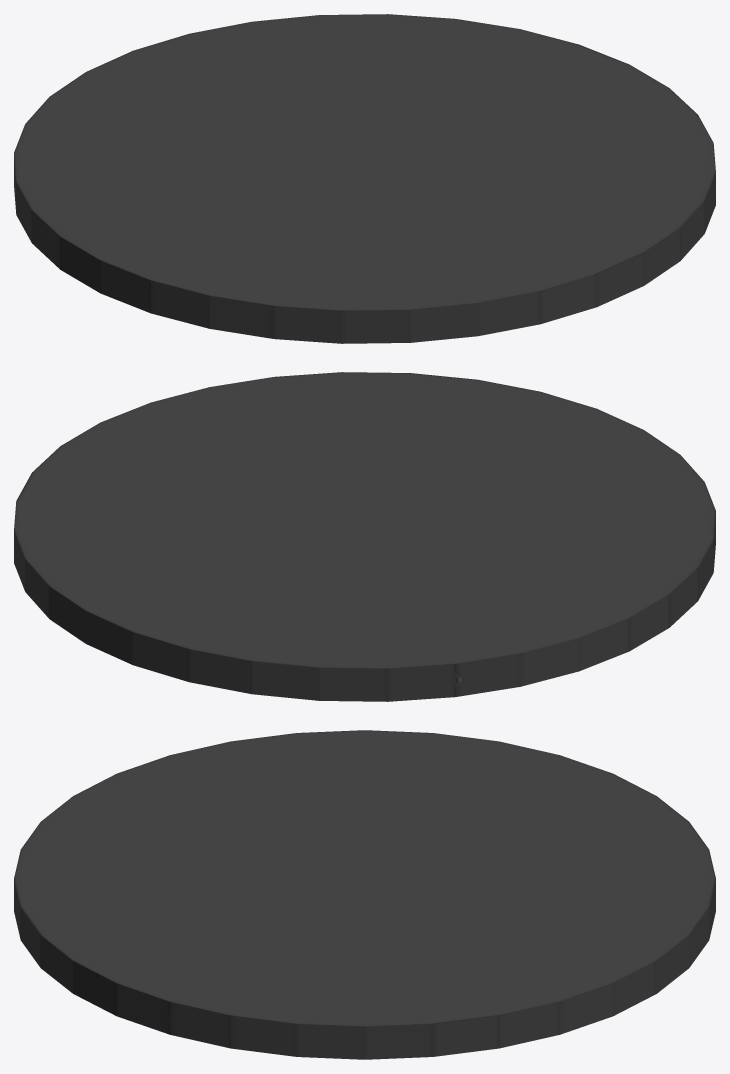
File: Basement_Cvr.fbx
3 renders of one model, top to bottom at view 1: azimuth 30°, elevation 25°; view 2: azimuth 150°, elevation 25°; view 3: azimuth 270°, elevation 25°, orthographic.
Parts seen in each view (by area): view 1: Cylinder; view 2: Cylinder; view 3: Cylinder.
Boxes of the visible parts, left/top/right/bottom form: Cylinder: left=14, top=14, right=715, bottom=343; Cylinder: left=14, top=372, right=715, bottom=701; Cylinder: left=14, top=730, right=715, bottom=1059.
Size of the model in its own units: 331 by 17.15 by 331.
